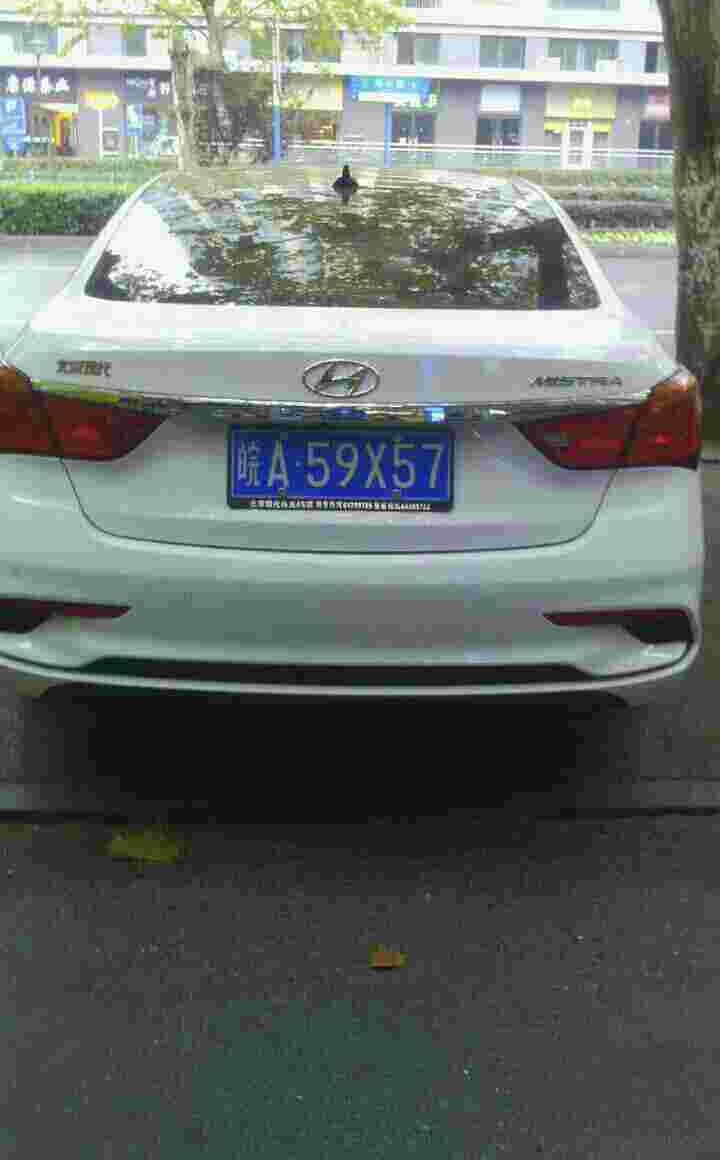car: (231, 427, 453, 514)
